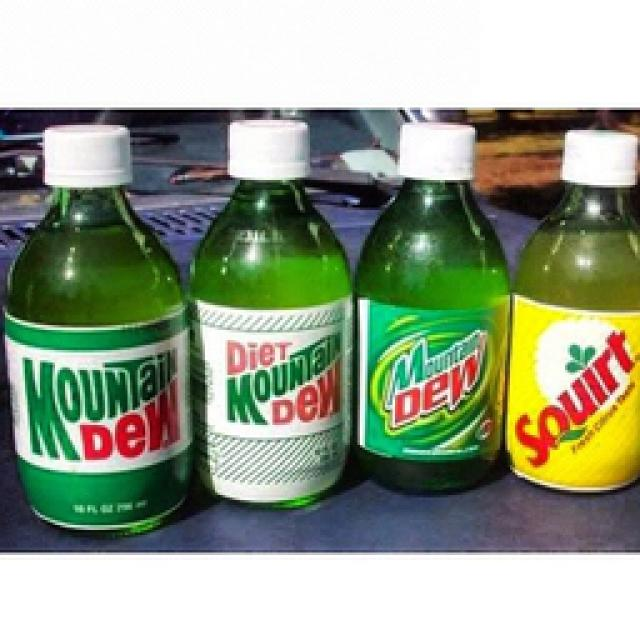plastic_soda_bottles: (5, 126, 200, 532), (186, 113, 357, 506), (351, 117, 502, 489), (505, 128, 640, 497)
